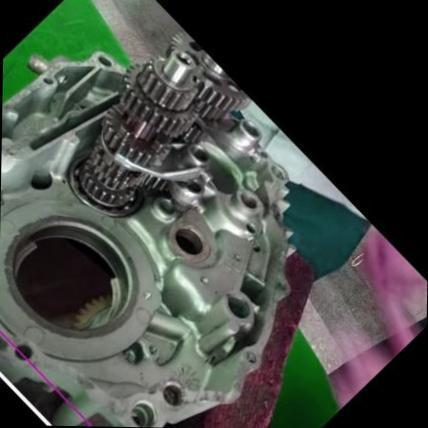hole: (240, 346, 258, 366), (196, 272, 211, 287), (144, 341, 158, 356)
